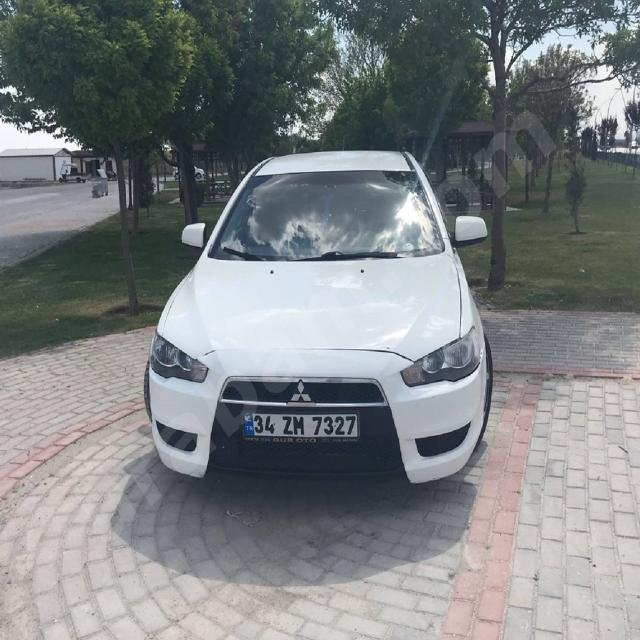license_plate: (243, 412, 358, 438)
